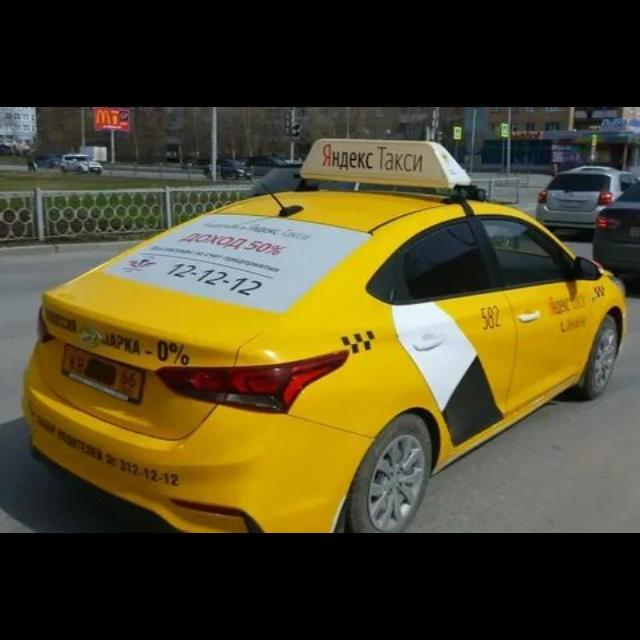taxi: (21, 137, 627, 533)
